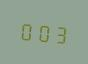three: (51, 20, 66, 45)
zero: (18, 17, 33, 43), (35, 19, 50, 44)
